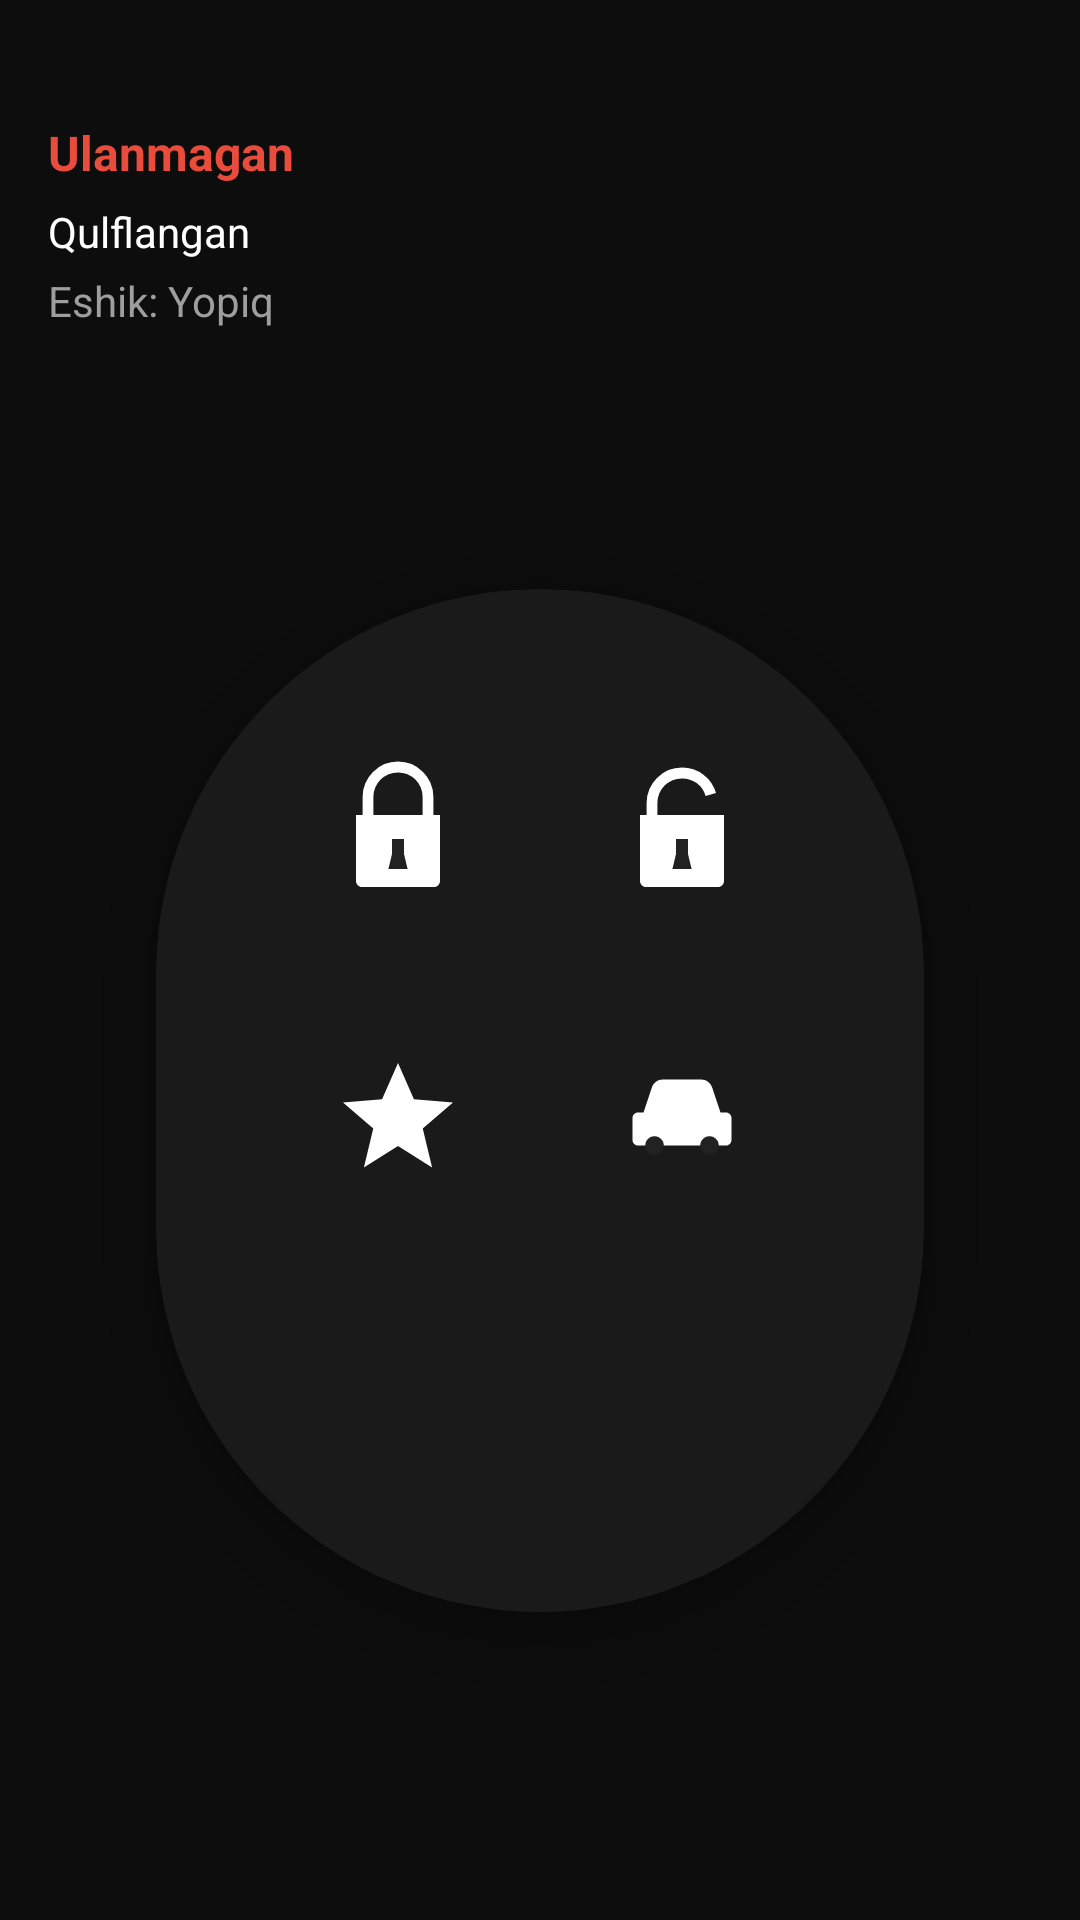

Icon bounding boxes for this 1080px×1920px phone screenshot, format Rect(x1, y1, x2, y2):
car: Rect(632, 1079, 732, 1146)
lock: Rect(356, 761, 440, 887)
star: Rect(343, 1063, 453, 1168)
unlock: Rect(640, 767, 724, 887)
